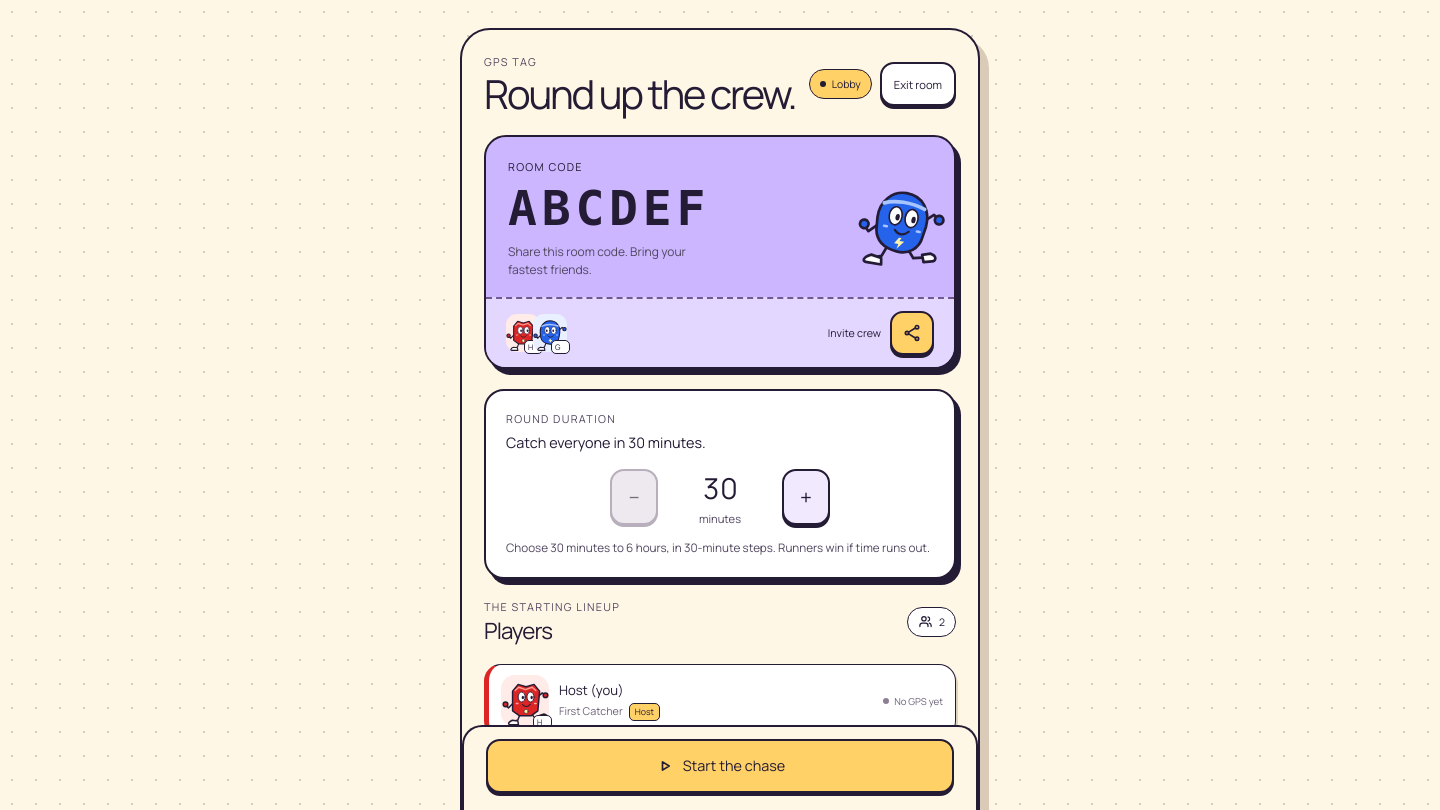
Test: saves duration changes immediately and shows failed saves without changing the chosen duration
This screenshot has width=1440, height=810.
Check: the button named "Decrease duration by 30 minutes" is disabled, box [610,469,658,525]
Click the button named "Increase duration by 30 minutes". click: point(806, 497)
box: [782,469,830,525]
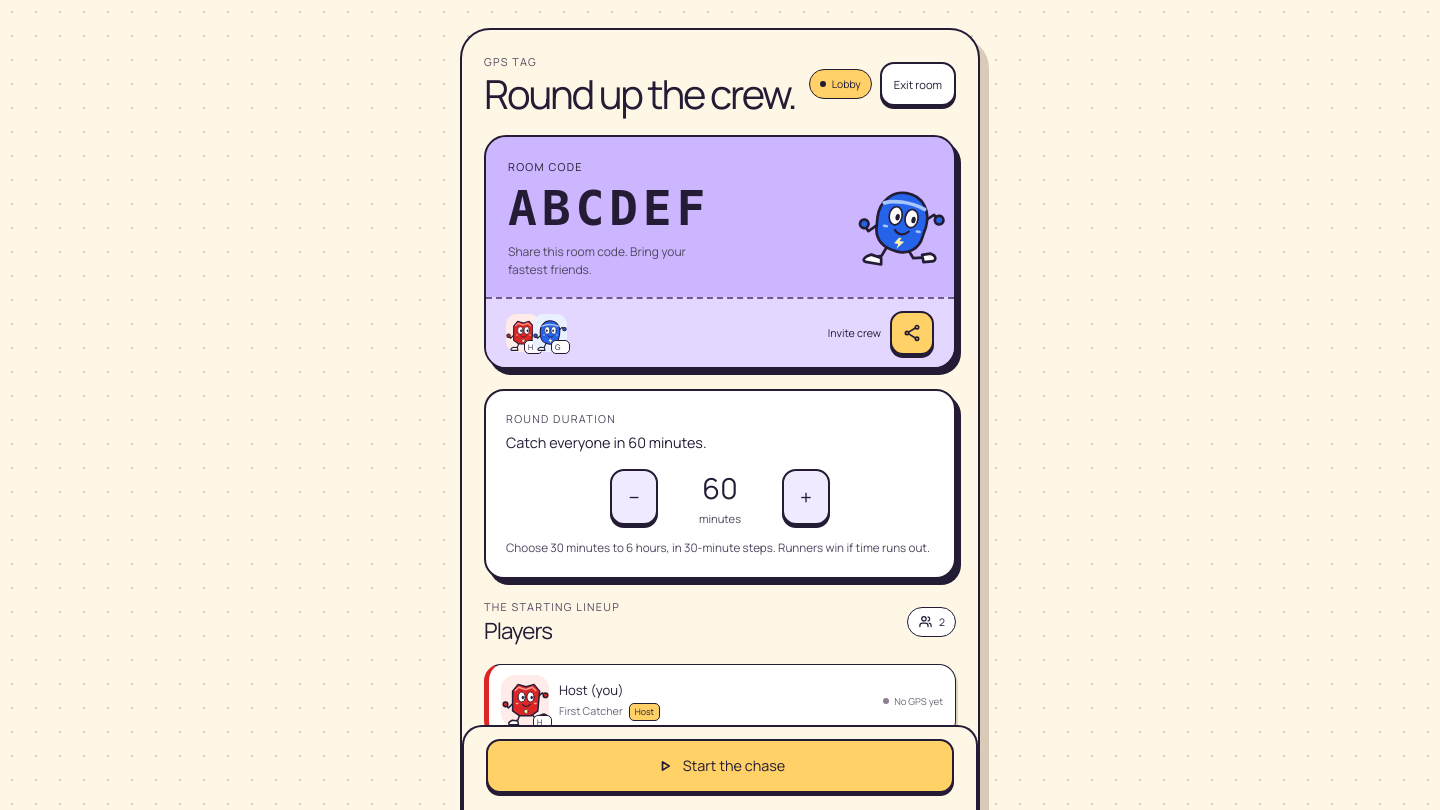
Check: the text "Catch everyone in 60 minutes." is shown, box [506,433,707,452]
Click the button named "Increase duration by 30 minutes". click: point(806, 497)
box: [782,469,830,525]
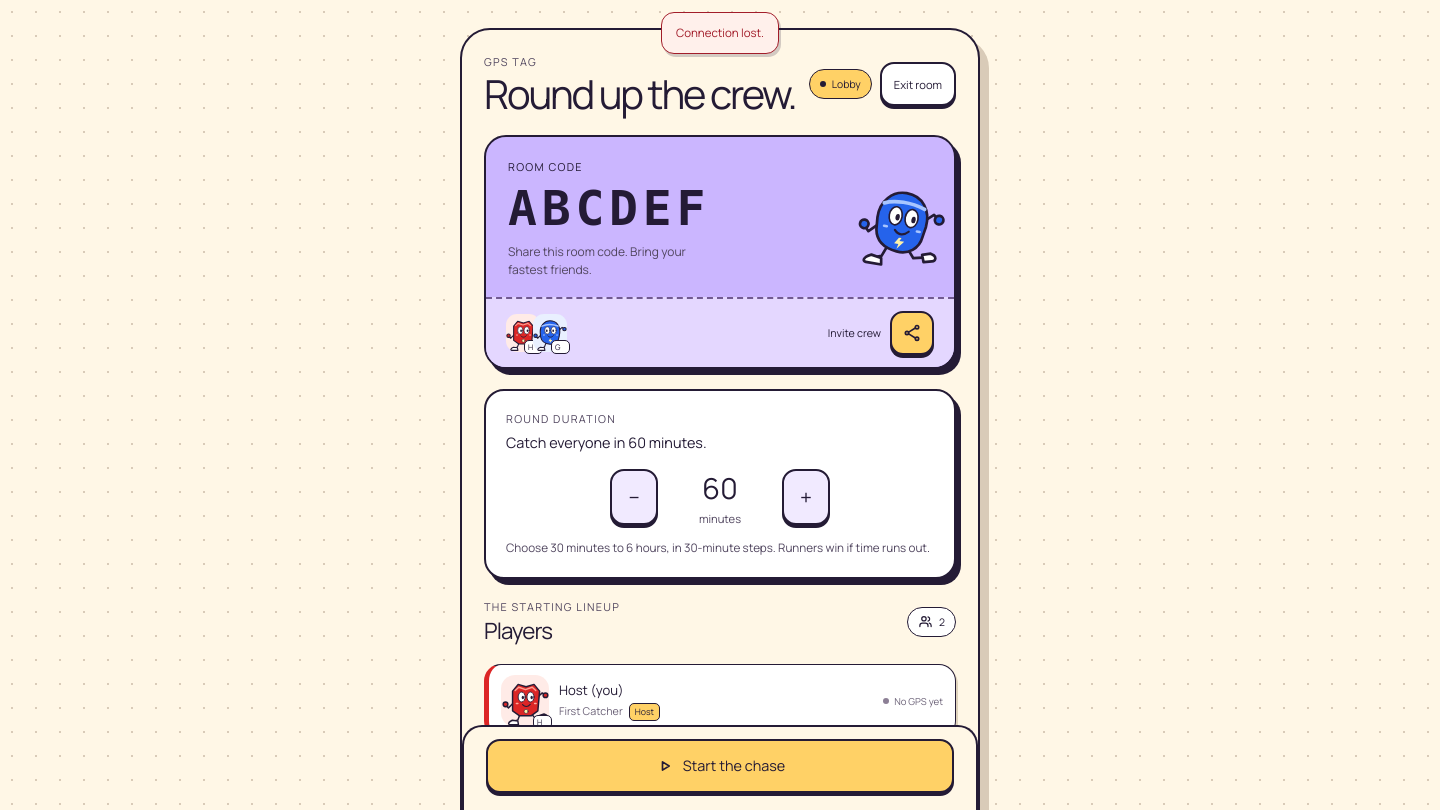
Check: the text "Catch everyone in 60 minutes." is shown, box [506,433,707,452]
Check: the text "Connection lost." is shown, box [661,12,779,54]
